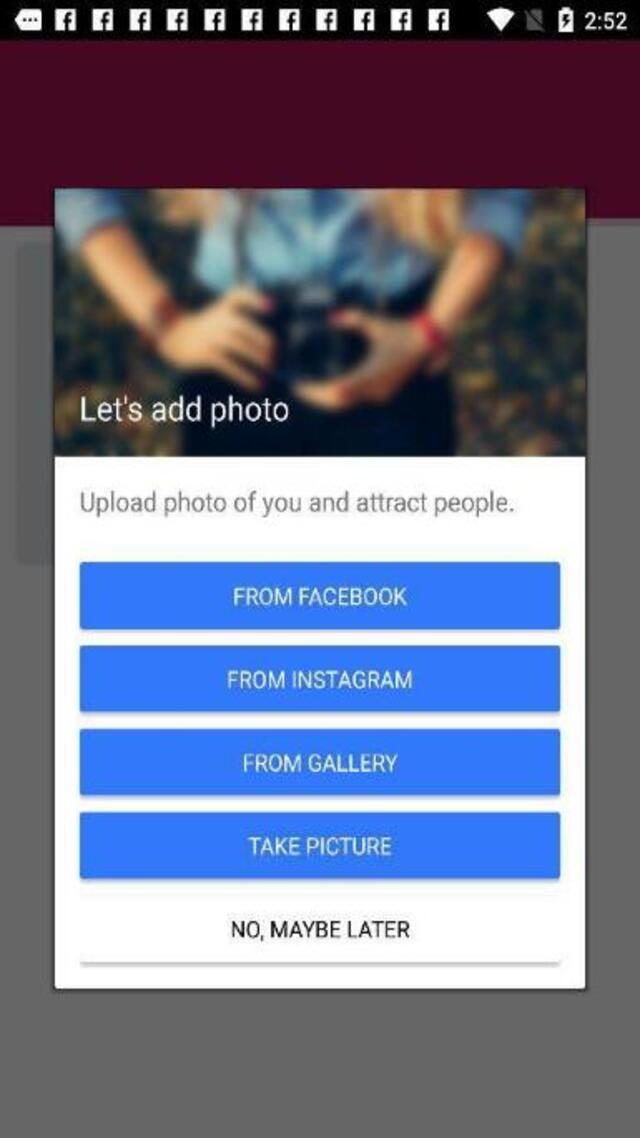Image: (54, 190, 584, 455)
Text: (79, 490, 513, 516), (81, 393, 288, 428), (228, 917, 410, 941), (231, 585, 411, 609), (226, 668, 415, 690), (238, 751, 400, 776), (246, 833, 394, 858)
TextButton: (78, 894, 560, 962), (78, 727, 560, 795), (80, 810, 558, 878), (80, 562, 558, 630), (79, 644, 559, 710)
